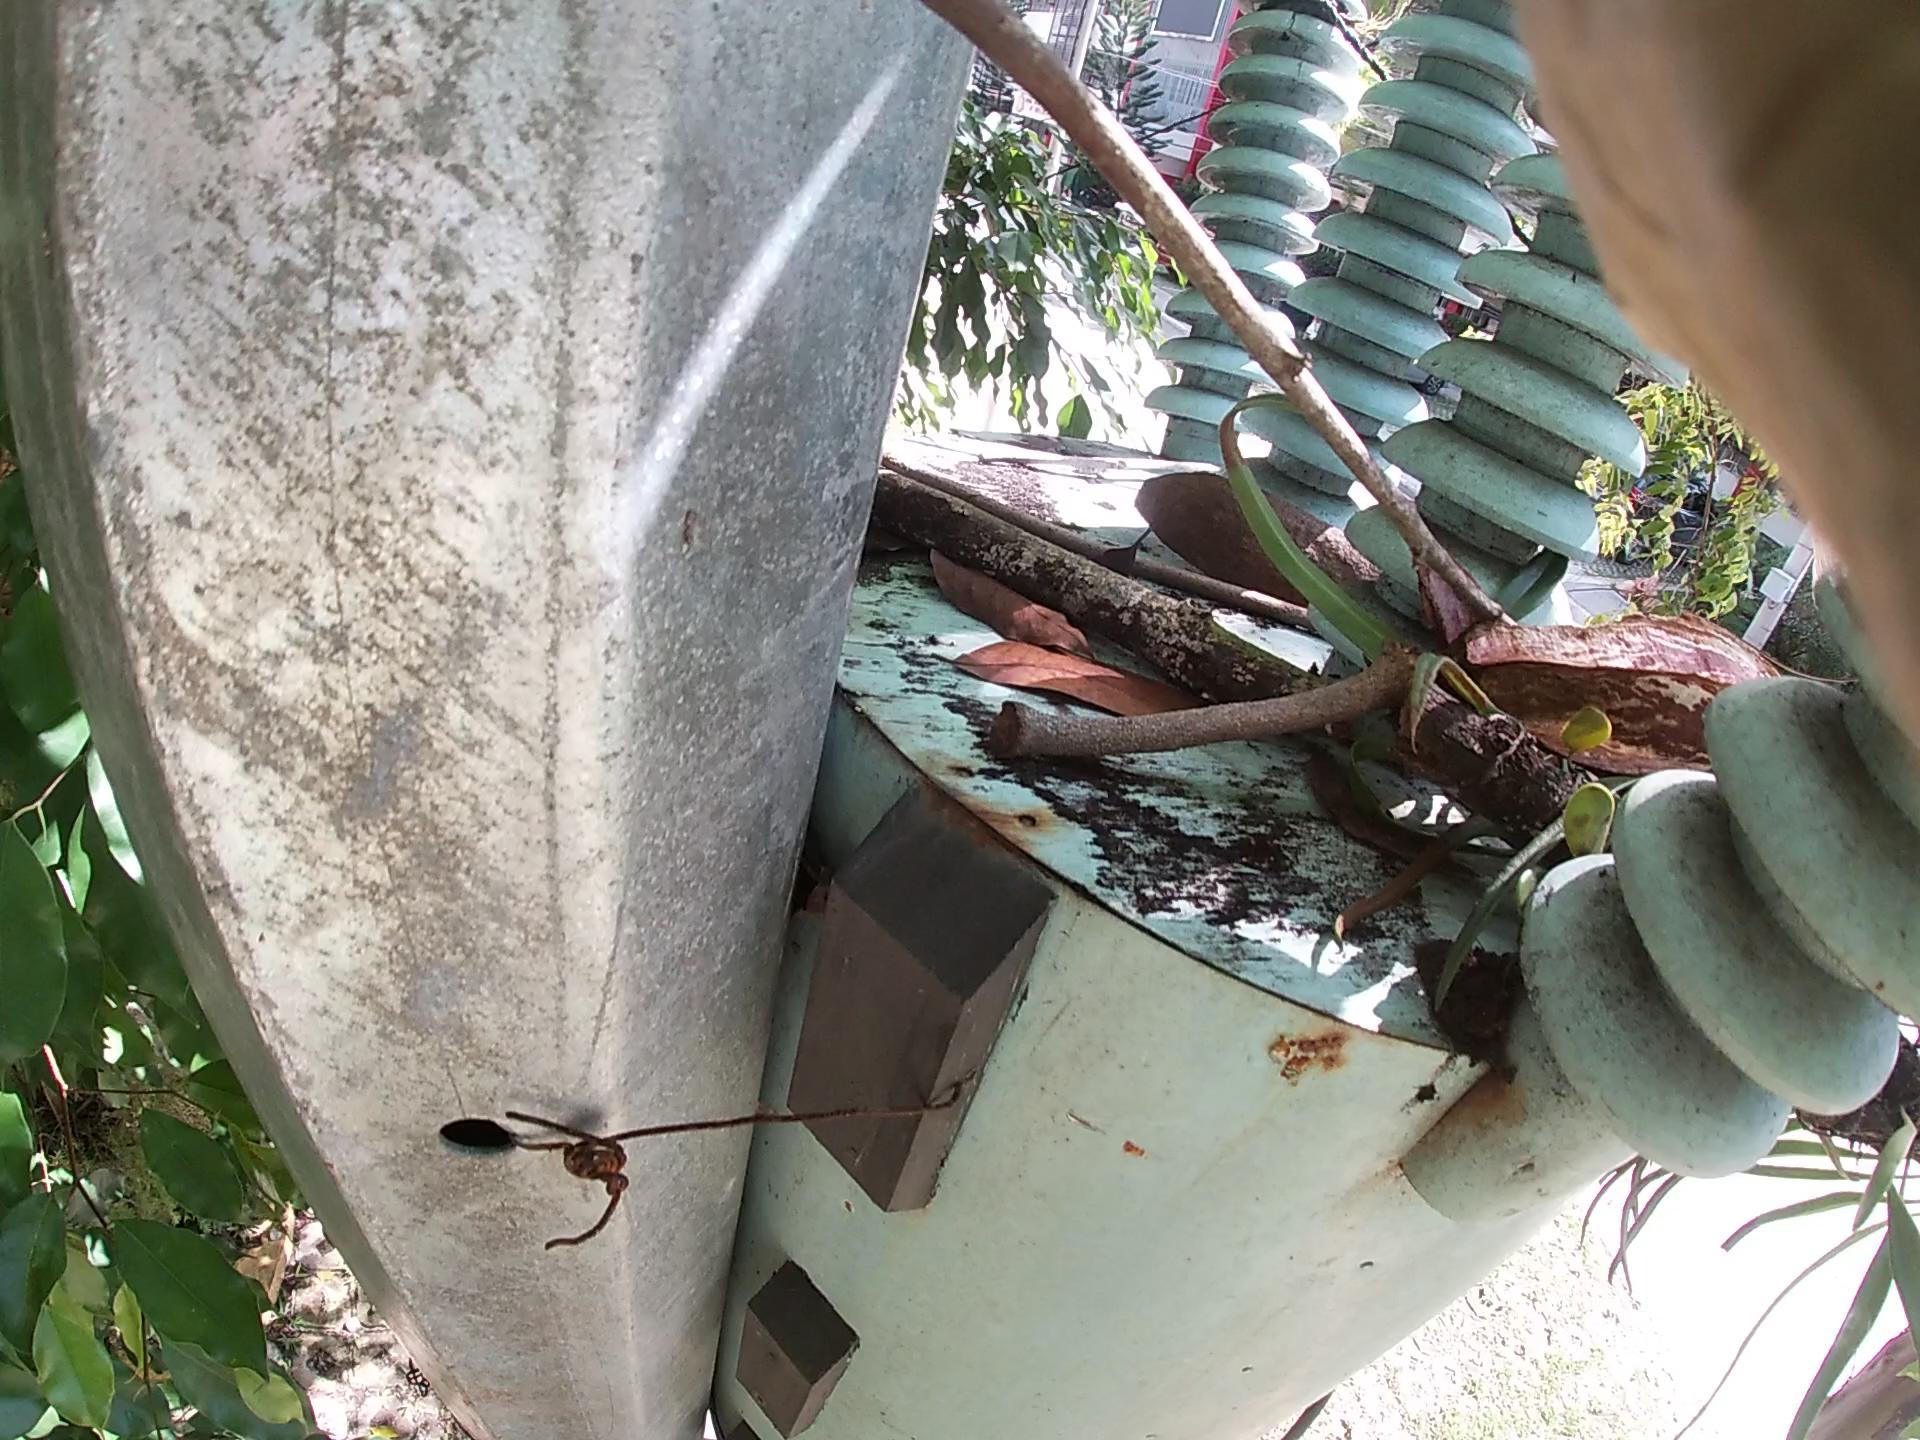branch with leaves: (910, 414, 1680, 980)
leaf: (921, 507, 1203, 756)
mahogany fruit: (1417, 545, 1791, 781), (1137, 421, 1385, 640)
tree branch: (887, 30, 1423, 555), (881, 436, 1349, 635), (965, 641, 1423, 821)
